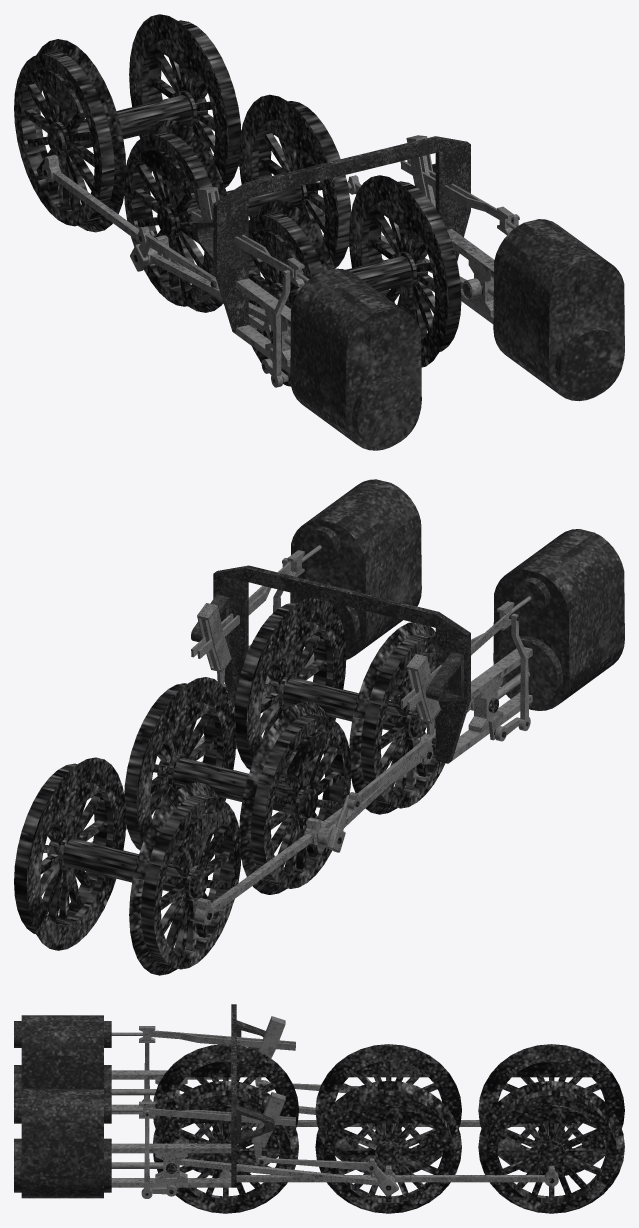
Rendered from walschaerts_valve_gear.glb.
3 renders of one model, top to bottom at view 1: azimuth 30°, elevation 25°; view 2: azimuth 150°, elevation 25°; view 3: azimuth 270°, elevation 25°, orthographic. The views are drawn at different scales.
Parts seen in each view (by area): view 1: Cylinder.007_36, Wheel.003_10, Wheel.002_9, Wheel.001_0, Cube.002_37, Piston valves_35, Siderods_11, Cube.004_40, Pistonrods_12, Pistons_15, Cube.003_25, Cylinder.005_31 (+3 smaller); view 2: Wheel.003_10, Cylinder.007_36, Wheel.002_9, Wheel.001_0, Cube.002_37, Cube.003_25, Siderods_11, Piston valves_35, Cylinder.008_38, Cube.004_40, Pistons_15, Cylinder.005_31 (+3 smaller); view 3: Wheel.003_10, Wheel.002_9, Cylinder.007_36, Wheel.001_0, Piston valves_35, Siderods_11, Cube.004_40, Pistonrods_12, Pistons_15, Cube.003_25, Cube.001_23, Cube.002_37 (+4 smaller).
Boxes of the visible parts, bbox=[...] form: Cylinder.007_36: bbox=[290, 219, 624, 450]; Wheel.003_10: bbox=[14, 14, 241, 232]; Wheel.002_9: bbox=[124, 94, 351, 312]; Wheel.001_0: bbox=[248, 175, 461, 386]; Cube.002_37: bbox=[213, 136, 470, 333]; Piston valves_35: bbox=[236, 228, 494, 373]; Siderods_11: bbox=[42, 128, 432, 339]; Cube.004_40: bbox=[191, 159, 499, 277]; Pistonrods_12: bbox=[145, 210, 481, 324]; Pistons_15: bbox=[265, 260, 493, 365]; Cube.003_25: bbox=[197, 135, 435, 263]; Cylinder.005_31: bbox=[271, 214, 518, 387]; Wheel.003_10: bbox=[14, 757, 241, 975]; Cylinder.007_36: bbox=[290, 479, 624, 710]; Wheel.002_9: bbox=[124, 677, 351, 894]; Wheel.001_0: bbox=[234, 597, 445, 814]; Cube.002_37: bbox=[213, 565, 470, 763]; Cube.003_25: bbox=[197, 603, 440, 738]; Siderods_11: bbox=[42, 711, 433, 925]; Piston valves_35: bbox=[248, 644, 532, 760]; Cylinder.008_38: bbox=[191, 594, 463, 701]; Cube.004_40: bbox=[191, 561, 511, 709]; Pistons_15: bbox=[267, 637, 529, 740]; Cylinder.005_31: bbox=[273, 558, 530, 730]; Wheel.003_10: bbox=[478, 1044, 624, 1213]; Wheel.002_9: bbox=[315, 1044, 461, 1213]; Cylinder.007_36: bbox=[14, 1015, 111, 1198]; Wheel.001_0: bbox=[152, 1044, 298, 1213]; Piston valves_35: bbox=[111, 1070, 231, 1187]; Siderods_11: bbox=[218, 1120, 558, 1186]; Cube.004_40: bbox=[145, 1030, 295, 1126]; Pistonrods_12: bbox=[174, 1090, 395, 1185]; Pistons_15: bbox=[111, 1079, 187, 1186]; Cube.003_25: bbox=[251, 1016, 285, 1162]; Cube.001_23: bbox=[257, 1080, 376, 1172]; Cube.002_37: bbox=[231, 1004, 236, 1187].
Bounding box in the file's own units: 4.4 × 3.15 × 11.25.
3 materials, 3 textured.
